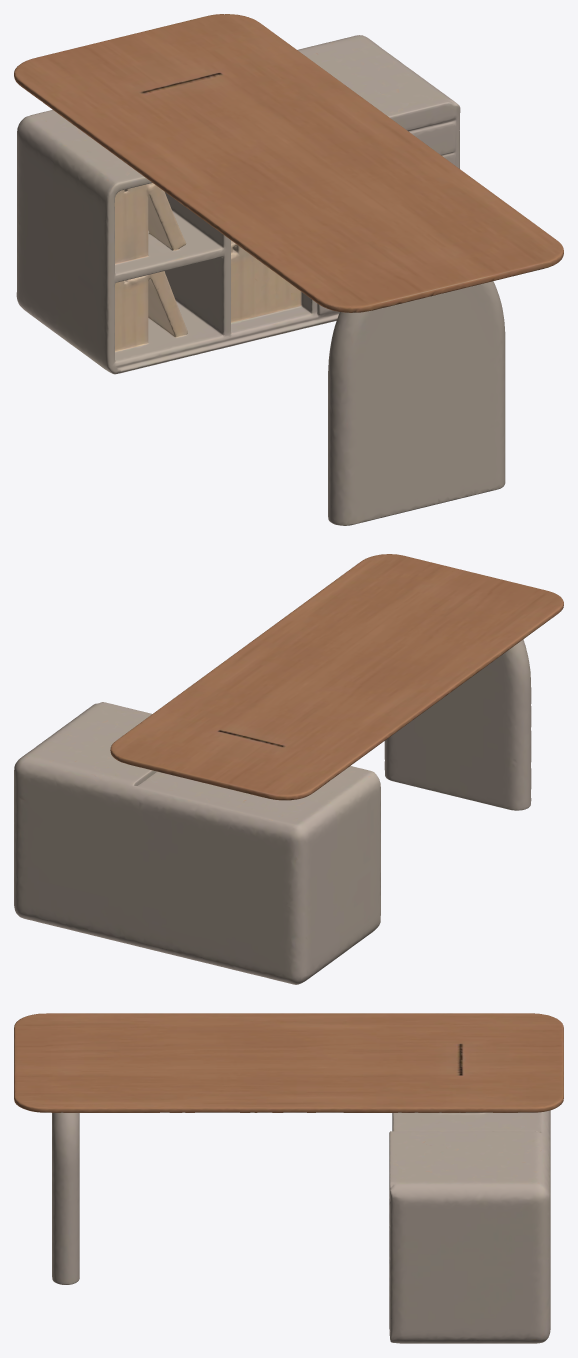
The model's file is SmallStallTable.glb.
3 renders of one model, top to bottom at view 1: azimuth 30°, elevation 25°; view 2: azimuth 150°, elevation 25°; view 3: azimuth 270°, elevation 25°, orthographic. The views are drawn at different scales.
Parts seen in each view (by area): view 1: world; view 2: world; view 3: world.
Boxes of the visible parts, x1,y1,x2,y2 form: world: (14,14,563,525); world: (14,554,563,984); world: (14,1013,563,1343).
Size of the model in its own units: 0.6141 by 0.3922 by 1.
Materials: 1 (1 with a texture image).
